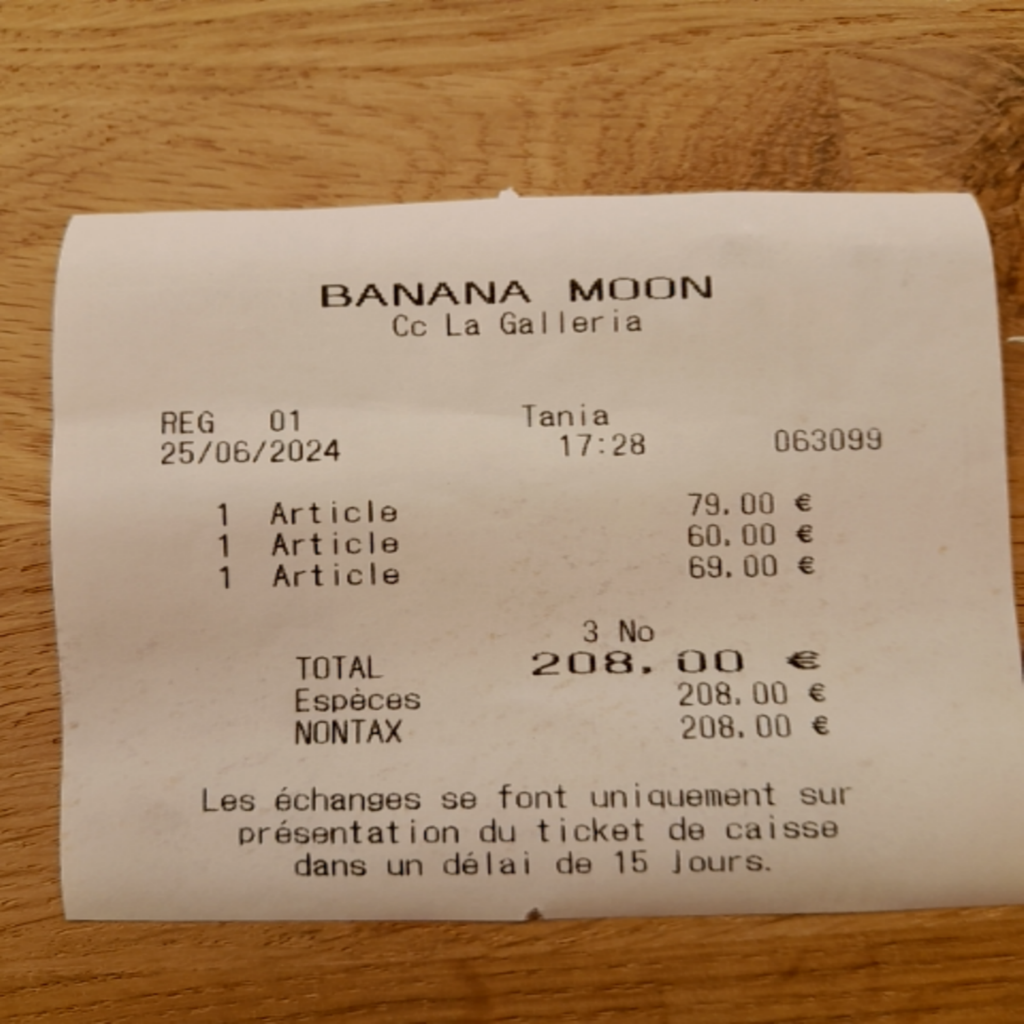recipt: (48, 190, 1024, 919)
